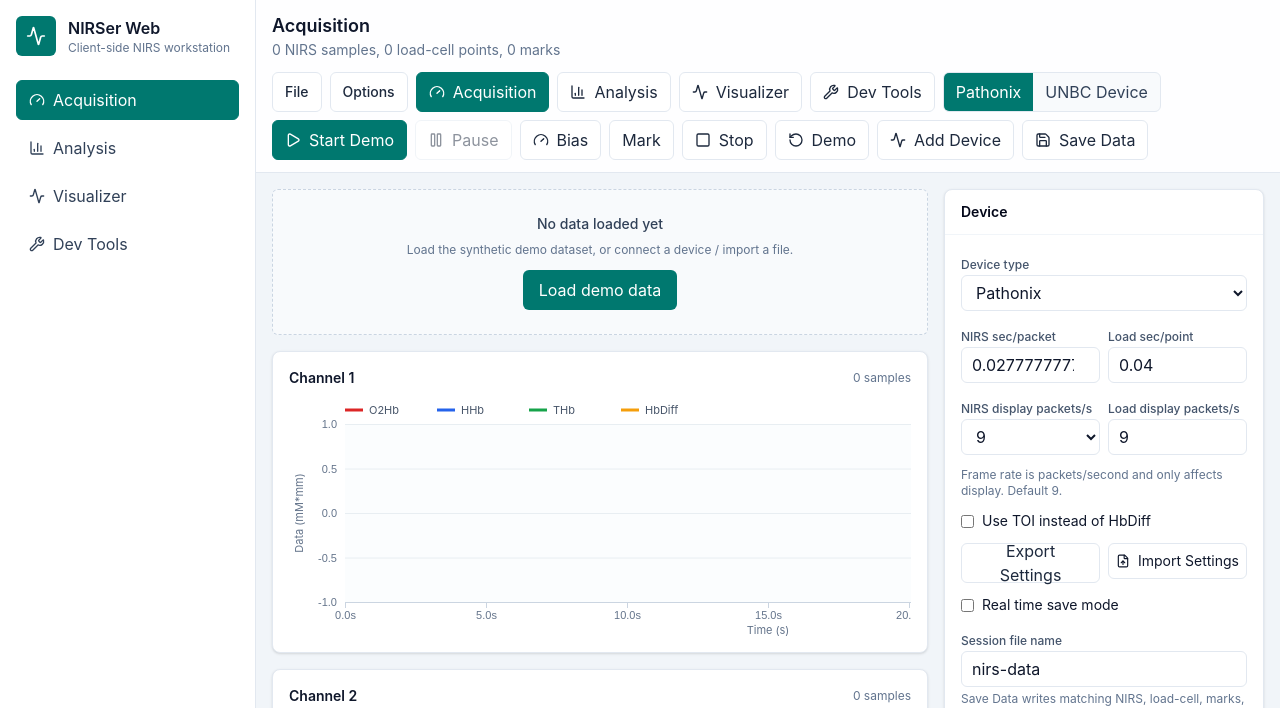
Test case: Bias & chart controls › sets the bias at a typed time
Click the button "Load demo data" at [600, 290], box [523,270,677,310]
(page scrolled)
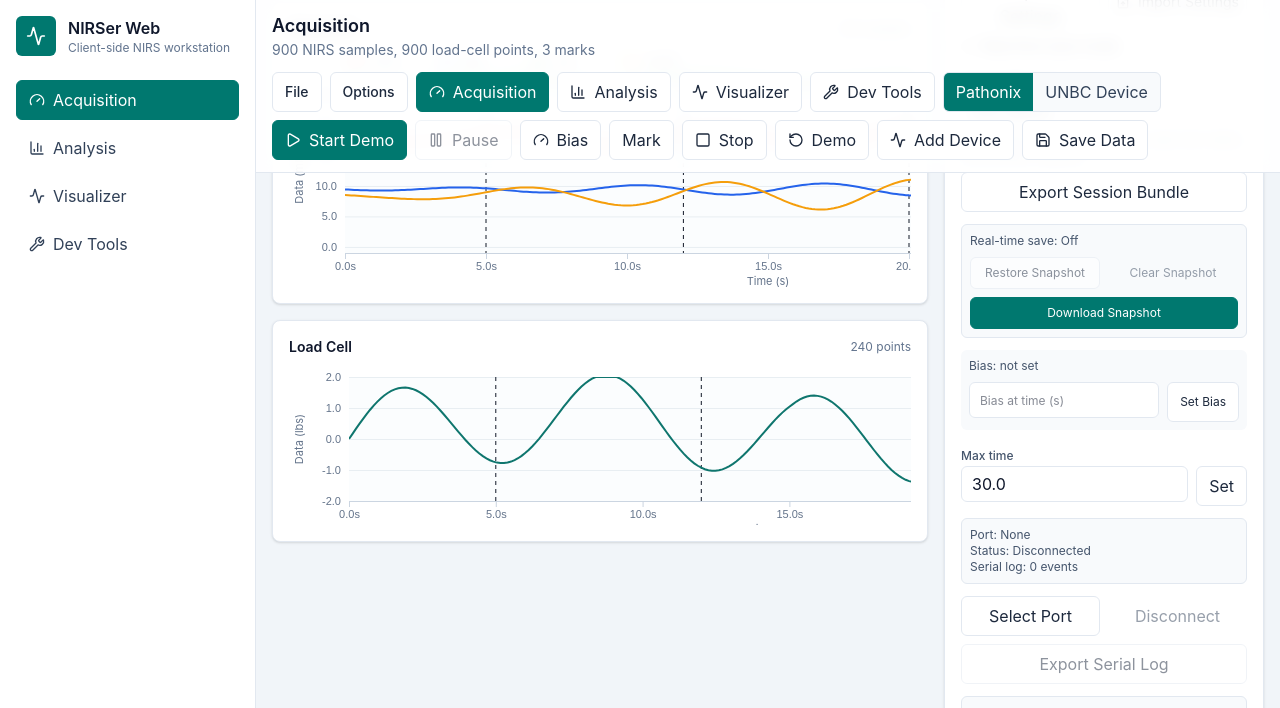
Expected: the text "Bias: not set" is shown, [969,358,1038,373]
Type "5" into the number field labelled "Bias at time" at [1064, 400], box [969,382,1159,418]
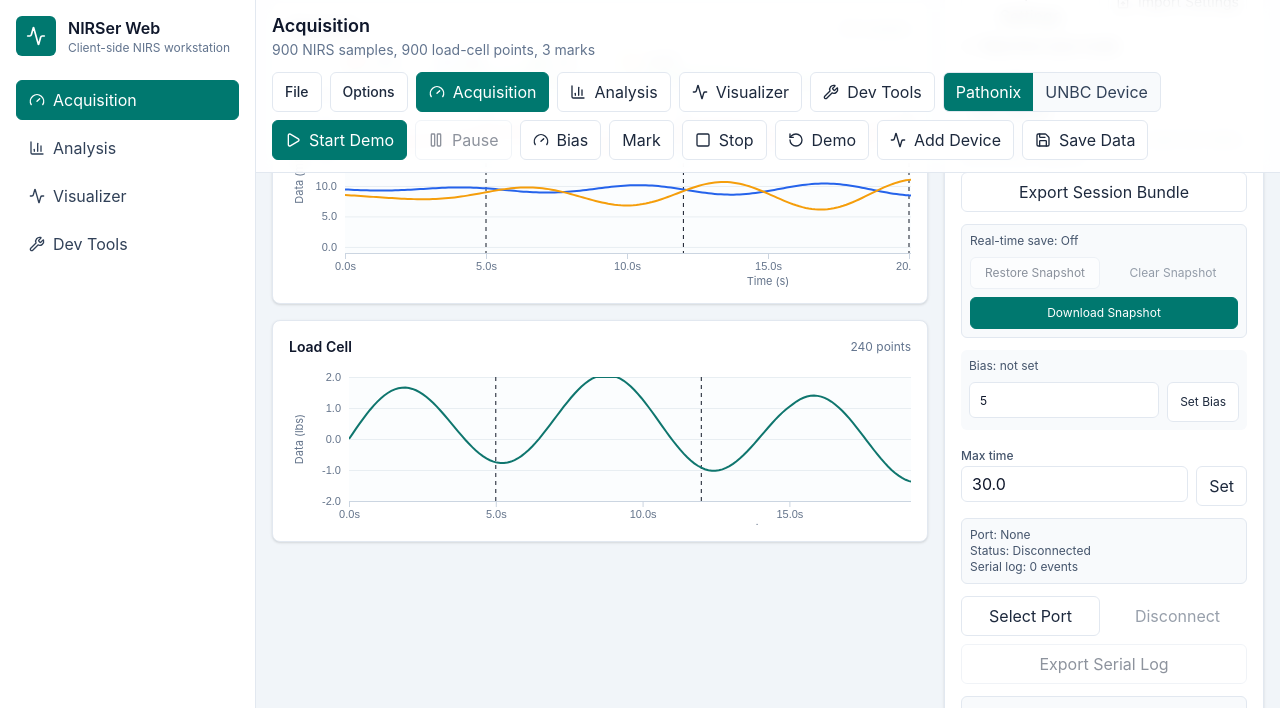
Click the button with aria-label "Set bias at time" at [1203, 402], box [1167,382,1239,422]
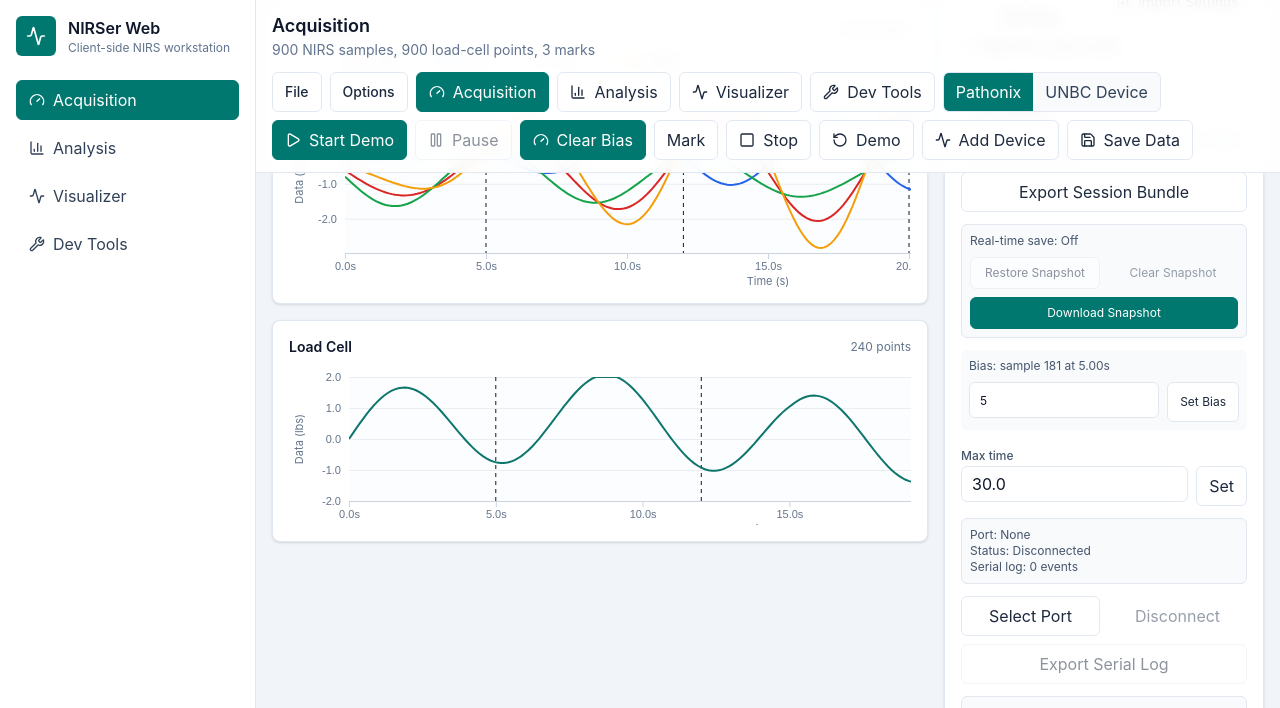
Expected: the text "Bias: sample 181 at 5.00s" is shown, [969,358,1110,373]
